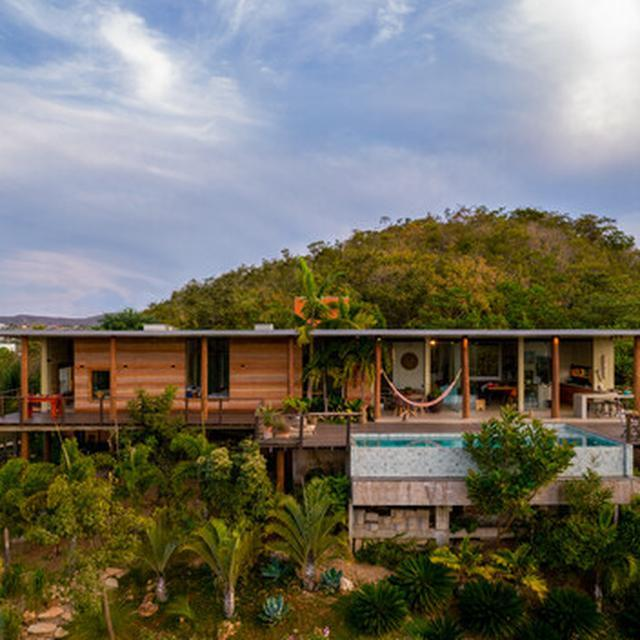building: (4, 327, 640, 446)
